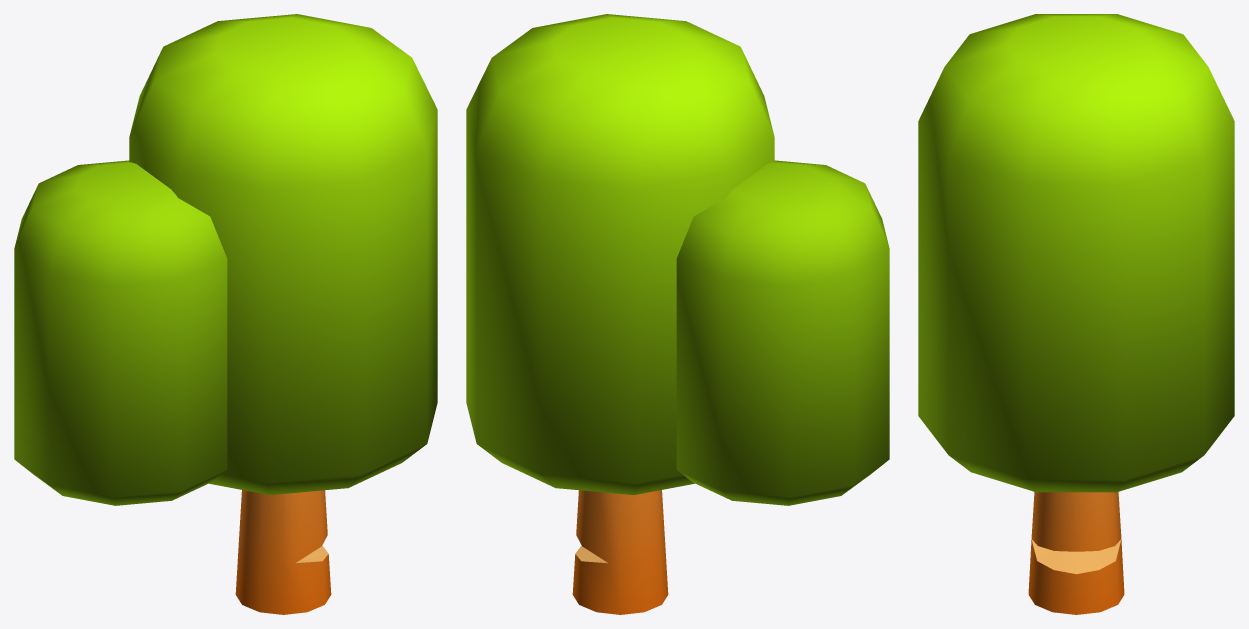
The model's file is Plant_B_Step_03.fbx.
3 renders of one model, left to right at view 1: azimuth 30°, elevation 25°; view 2: azimuth 150°, elevation 25°; view 3: azimuth 270°, elevation 25°, orthographic.
Visible parts, largest first — view 1: Plant_B_Step_03; view 2: Plant_B_Step_03; view 3: Plant_B_Step_03.
Part boxes in pixels (<box>): Plant_B_Step_03: <box>14,14,437,614</box>; Plant_B_Step_03: <box>466,14,889,614</box>; Plant_B_Step_03: <box>918,14,1234,614</box>.
Size of the model in its own units: 596 by 818 by 426.
